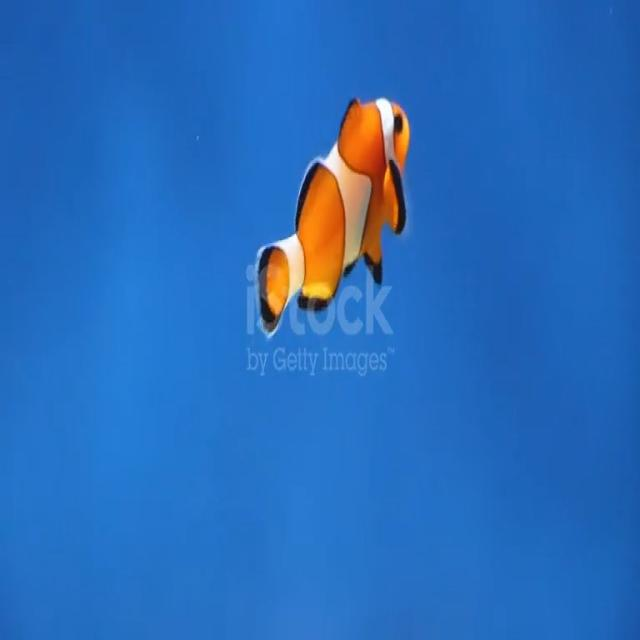fish: (253, 80, 425, 354)
